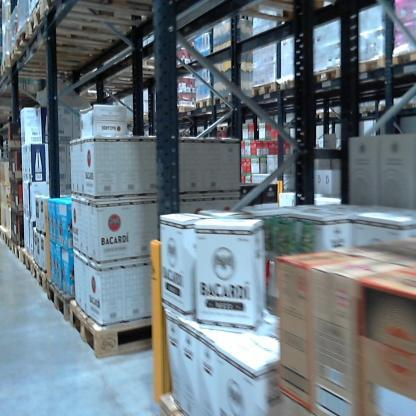pallets: (1, 225, 155, 364), (240, 52, 415, 101)
